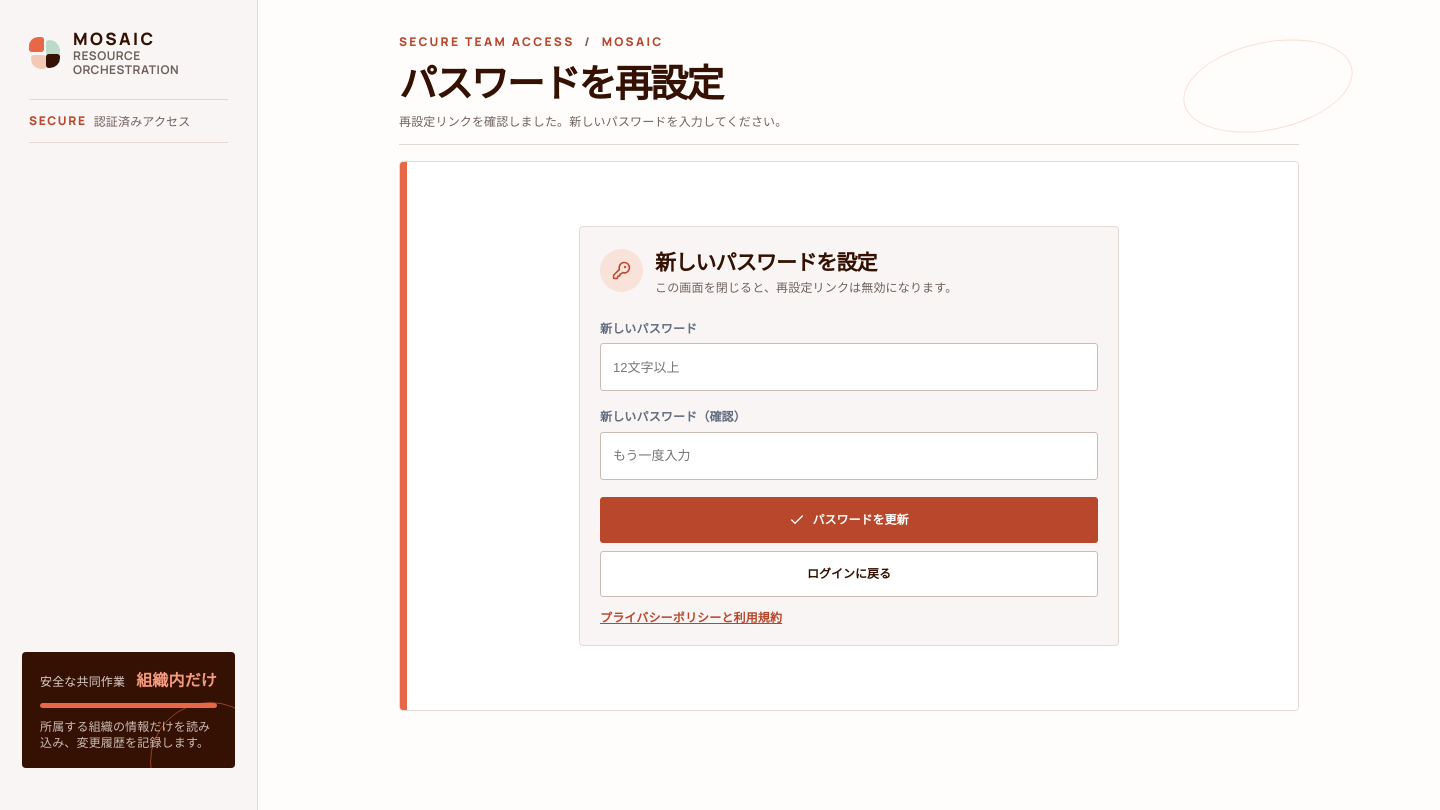
Test: AuthScreen password recovery › does not submit mismatched confirmation and keeps the values in the form
In the password field labelled "新しいパスワード": (849, 367) [600, 343, 1098, 391], type "NewPassword12"
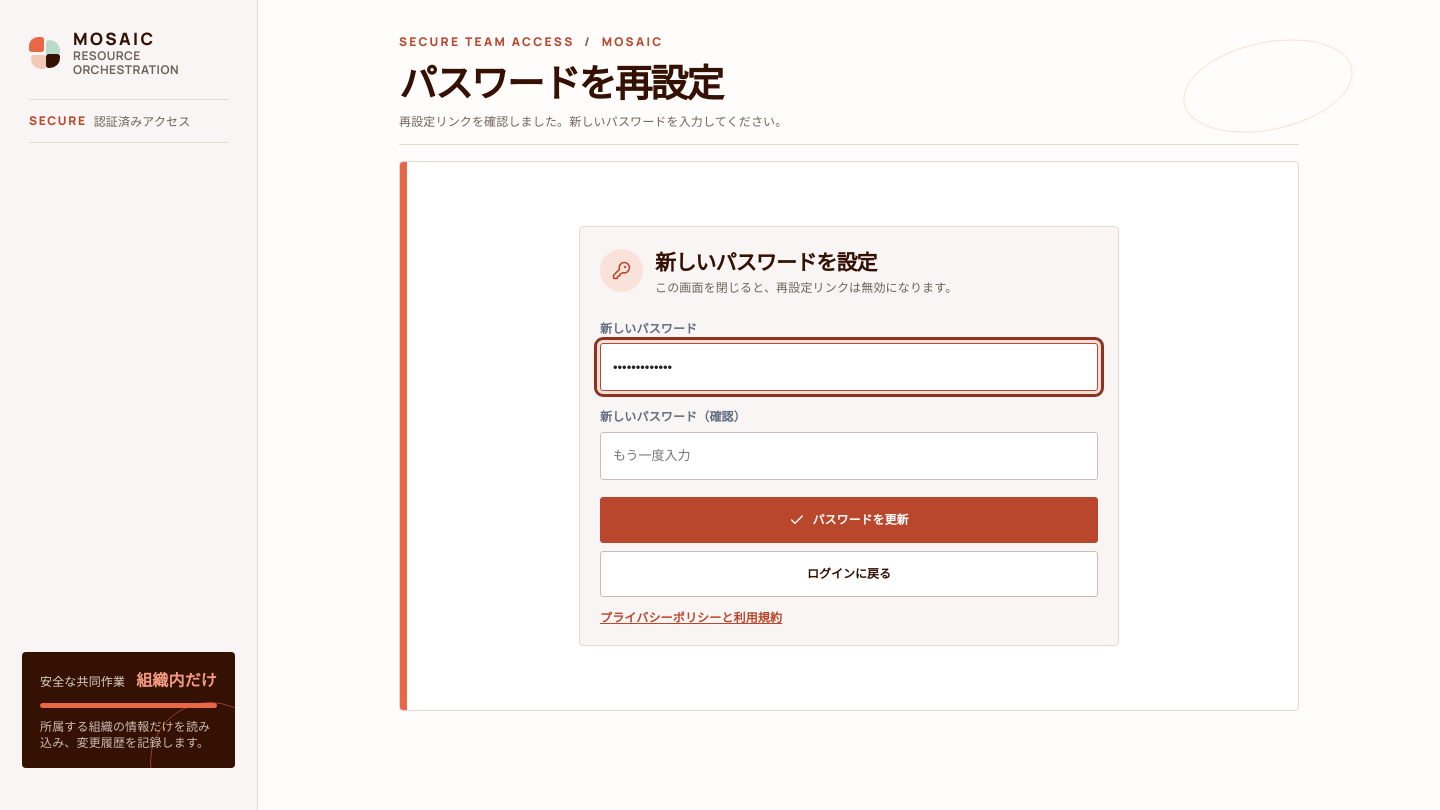
In the password field labelled "新しいパスワード（確認）": (849, 456) [600, 432, 1098, 480], type "OtherPassword12"
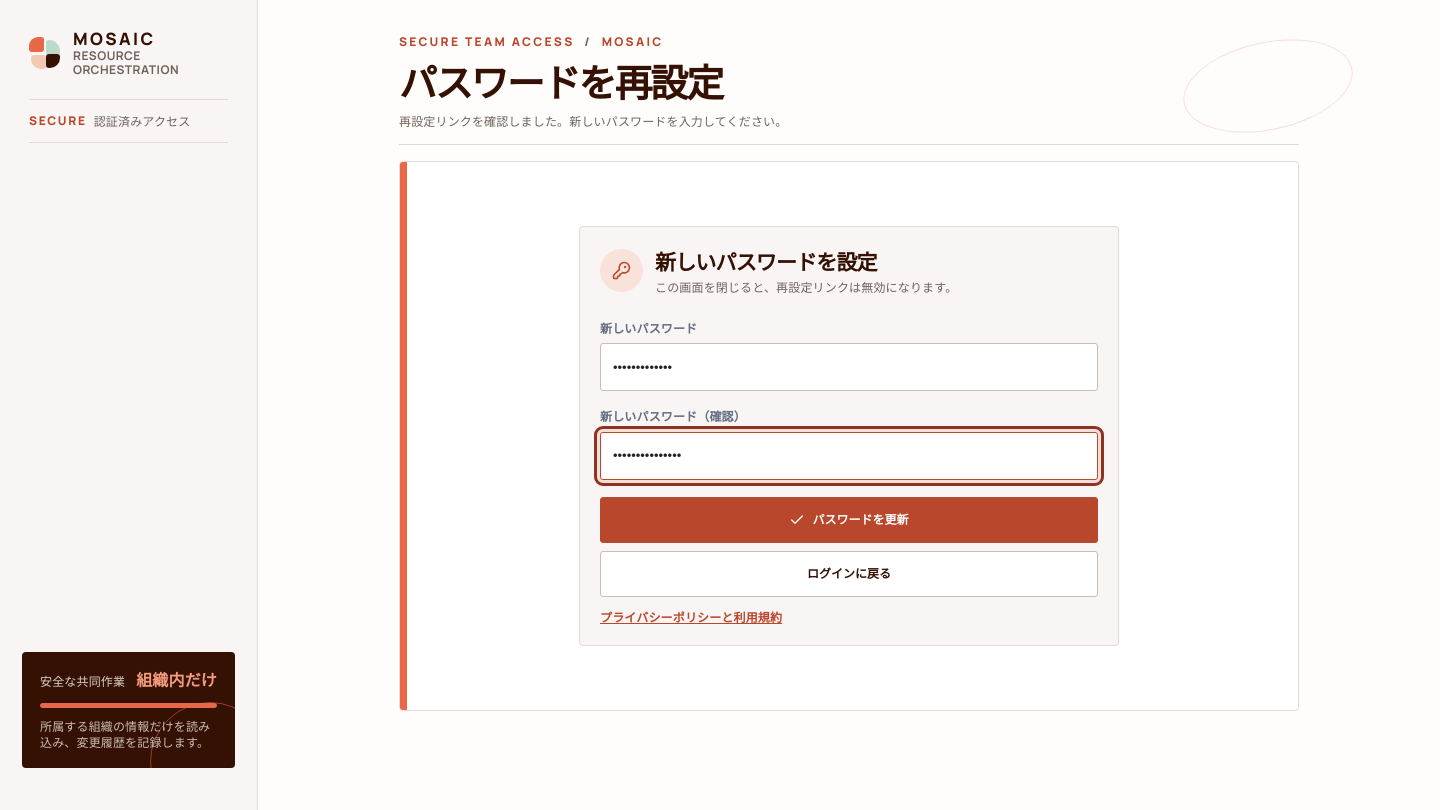
Click the button "パスワードを更新": click(849, 520) [600, 496, 1098, 542]
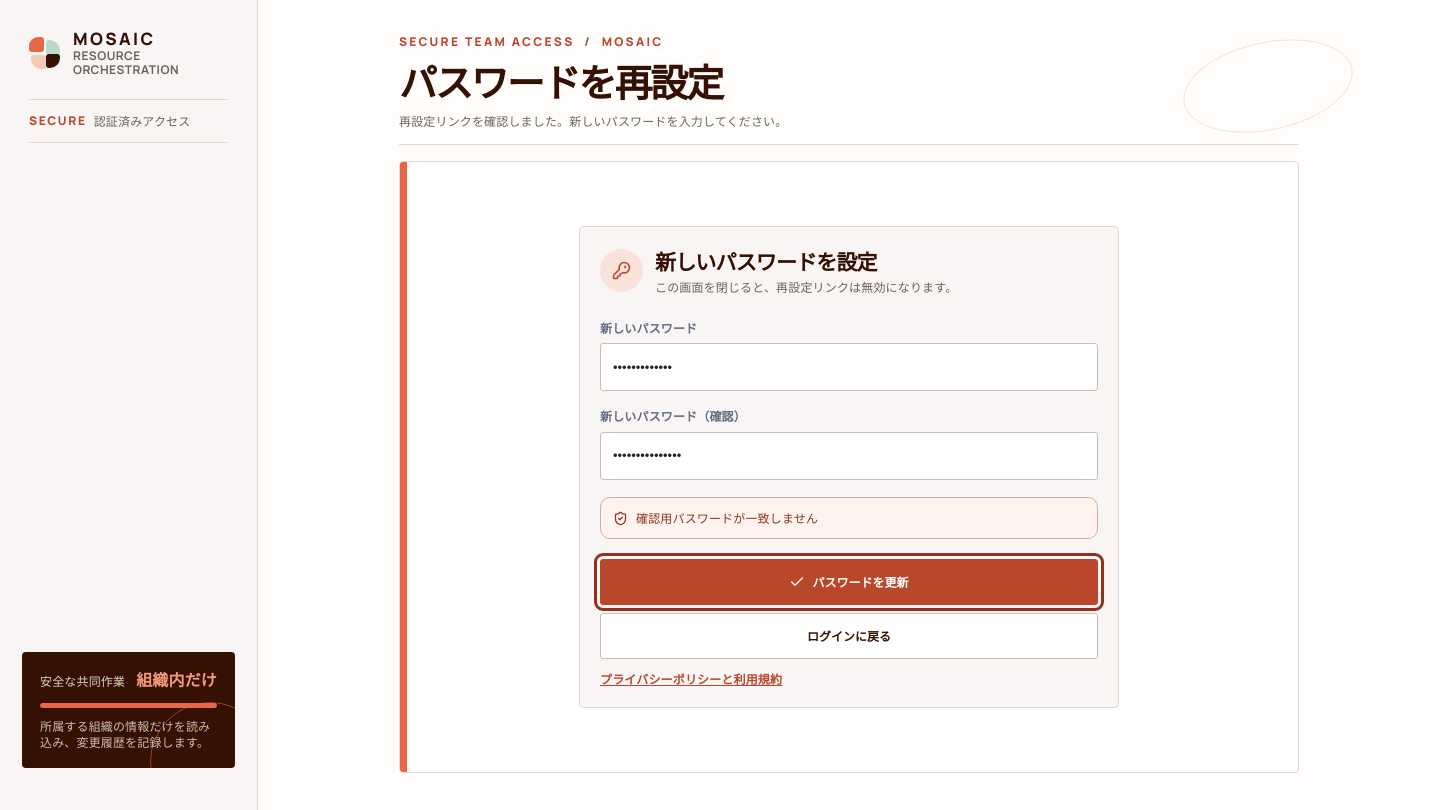
Expected: the message reads "確認用パスワードが一致しません", [636, 508, 818, 526]
